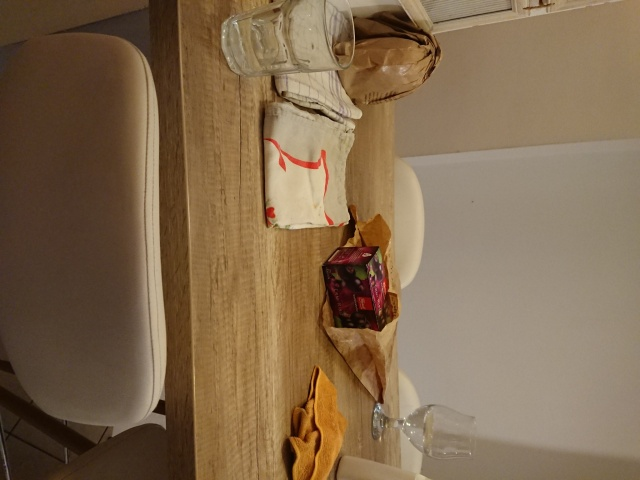Franck Black Currant Tea 60g: (319, 244, 397, 337)
